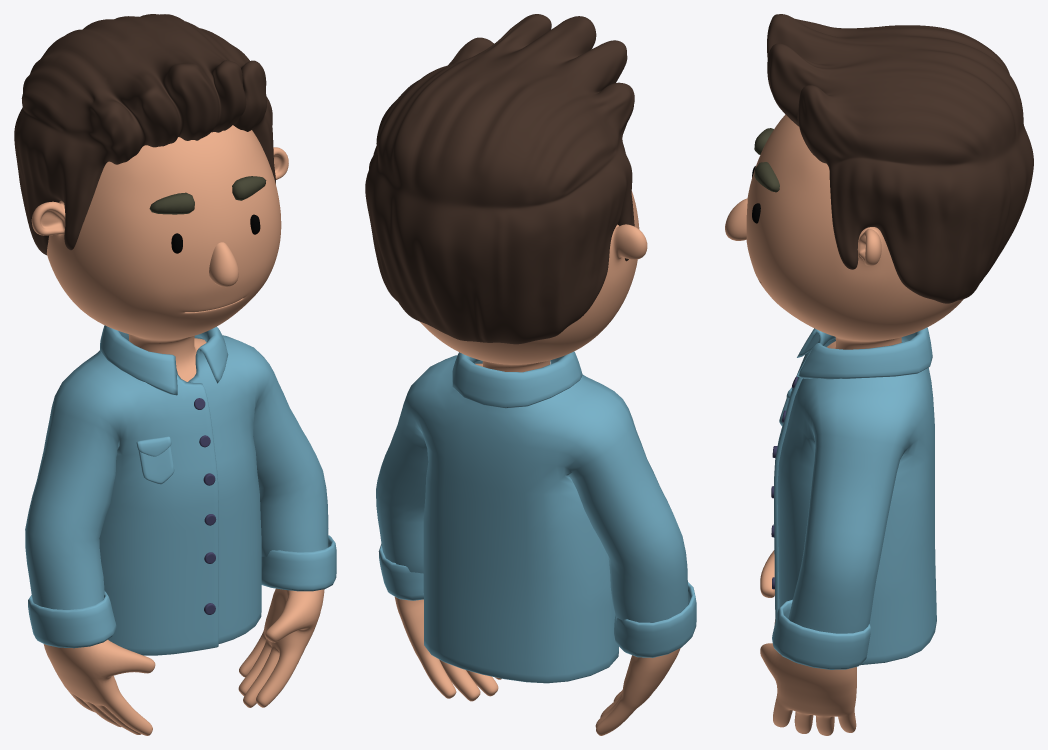
The picture shows the model from 3 angles, left to right: view 1: azimuth 30°, elevation 25°; view 2: azimuth 150°, elevation 25°; view 3: azimuth 270°, elevation 25°; orthographic projection. The views are drawn at different scales.
Parts seen in each view (by area): view 1: Shirt, body, Hair_3, Eyebrow.007, nose; view 2: Shirt, Hair_3, body; view 3: Hair_3, Shirt, body, Eyebrow.007, nose.
Part boxes in pixels (x1=…): Shirt: x1=25, y1=325, x2=336, y2=655; body: x1=31, y1=125, x2=324, y2=735; Hair_3: x1=14, y1=14, x2=275, y2=255; Eyebrow.007: x1=149, y1=176, x2=266, y2=214; nose: x1=209, y1=242, x2=238, y2=287; Shirt: x1=376, y1=351, x2=696, y2=683; Hair_3: x1=365, y1=14, x2=634, y2=344; body: x1=394, y1=191, x2=680, y2=735; Hair_3: x1=767, y1=14, x2=1033, y2=303; Shirt: x1=771, y1=327, x2=936, y2=669; body: x1=746, y1=114, x2=963, y2=735; Eyebrow.007: x1=754, y1=128, x2=779, y2=192; nose: x1=725, y1=198, x2=747, y2=240.
Size of the model in its own units: 6.4 by 13.95 by 5.74.
